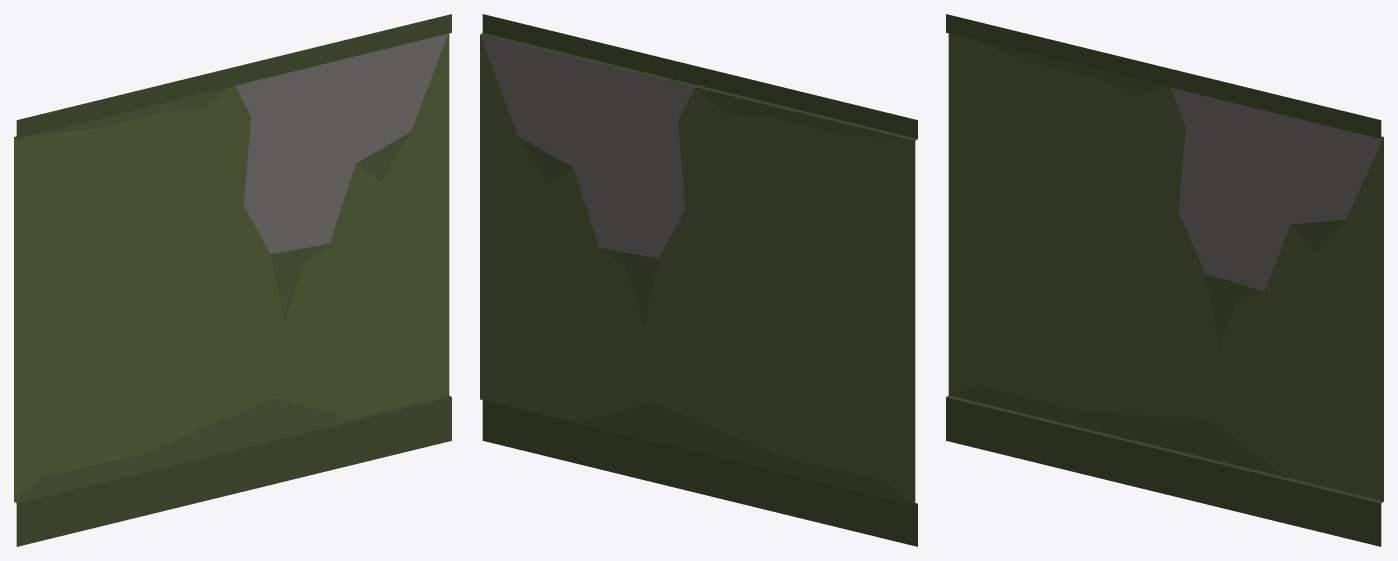
File: AI_Env_Wall_Green_TornWallpaper_02.fbx
3 views of the same model, side by side, from view 1: azimuth 30°, elevation 25°; view 2: azimuth 150°, elevation 25°; view 3: azimuth 330°, elevation 25° (orthographic).
Parts seen in each view (by area): view 1: AI_Env_Wall_Green_TornWallpaper_02; view 2: AI_Env_Wall_Green_TornWallpaper_02; view 3: AI_Env_Wall_Green_TornWallpaper_02.
Boxes of the visible parts, x1,y1,x2,y2 form: AI_Env_Wall_Green_TornWallpaper_02: (14,14,451,546); AI_Env_Wall_Green_TornWallpaper_02: (480,14,917,546); AI_Env_Wall_Green_TornWallpaper_02: (946,14,1383,546).
Bounding box in the file's own units: 5 × 4.69 × 0.0549.
